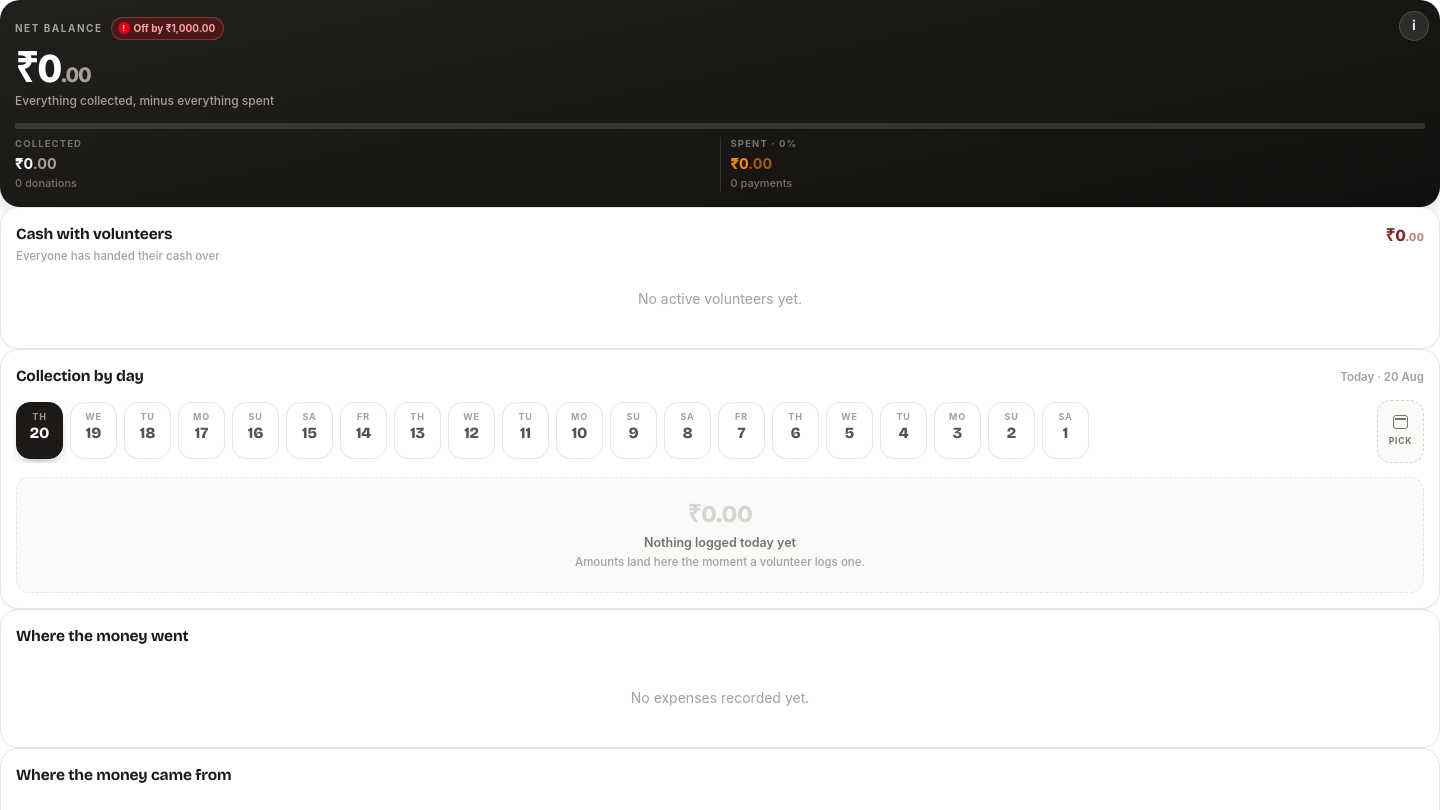
Scenario: MasterLedgerContent — the Overview tab › names the off-by amount in the sheet too when the books disagree
Expected: the text "Net balance" is shown, [15, 20, 102, 36]
Click the button named "How the net balance checks out".
click(1414, 26)  # box [1399, 11, 1429, 41]
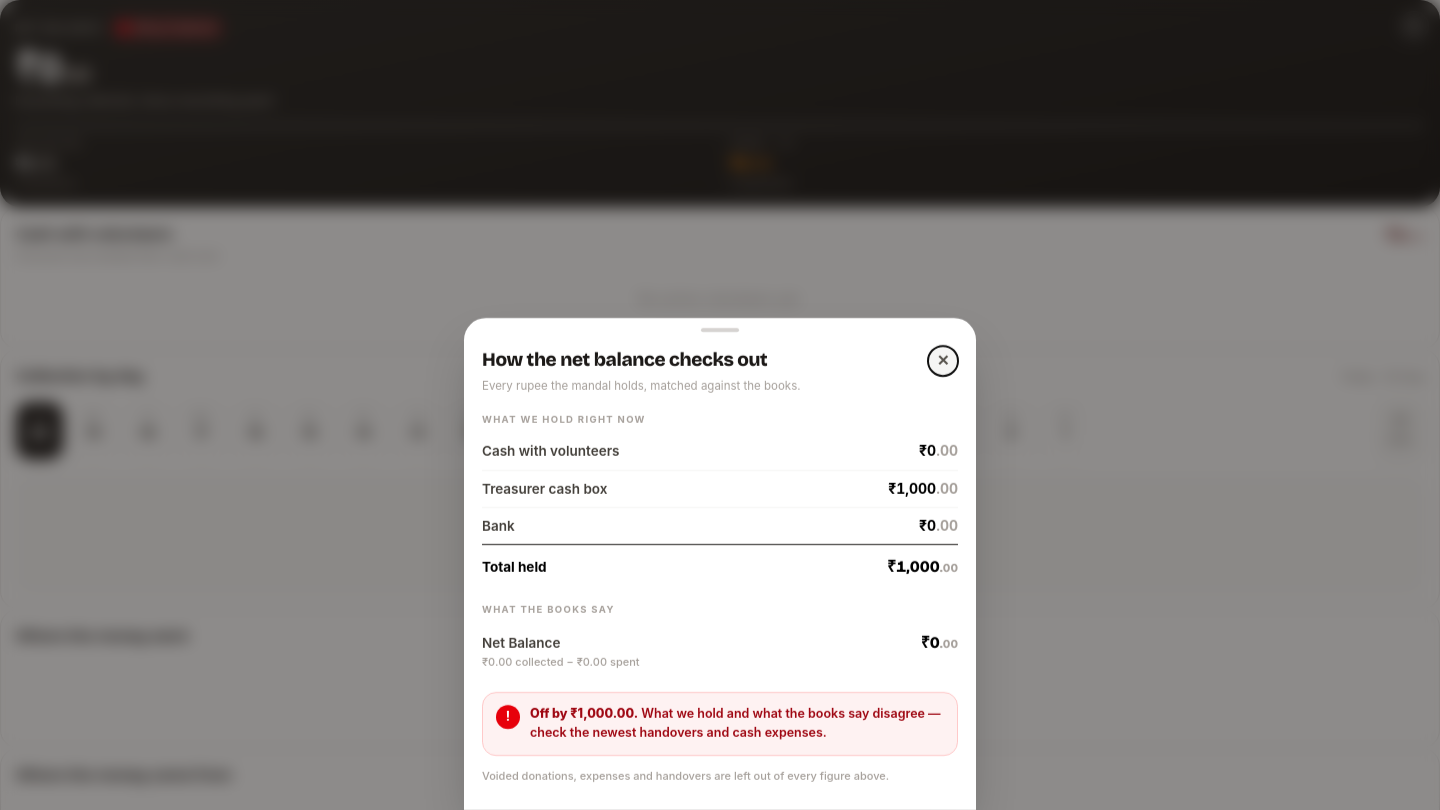
Expected: the text "What we hold and what the books say disagree — check the newest handovers and cash expenses." is shown, [530, 706, 941, 740]
